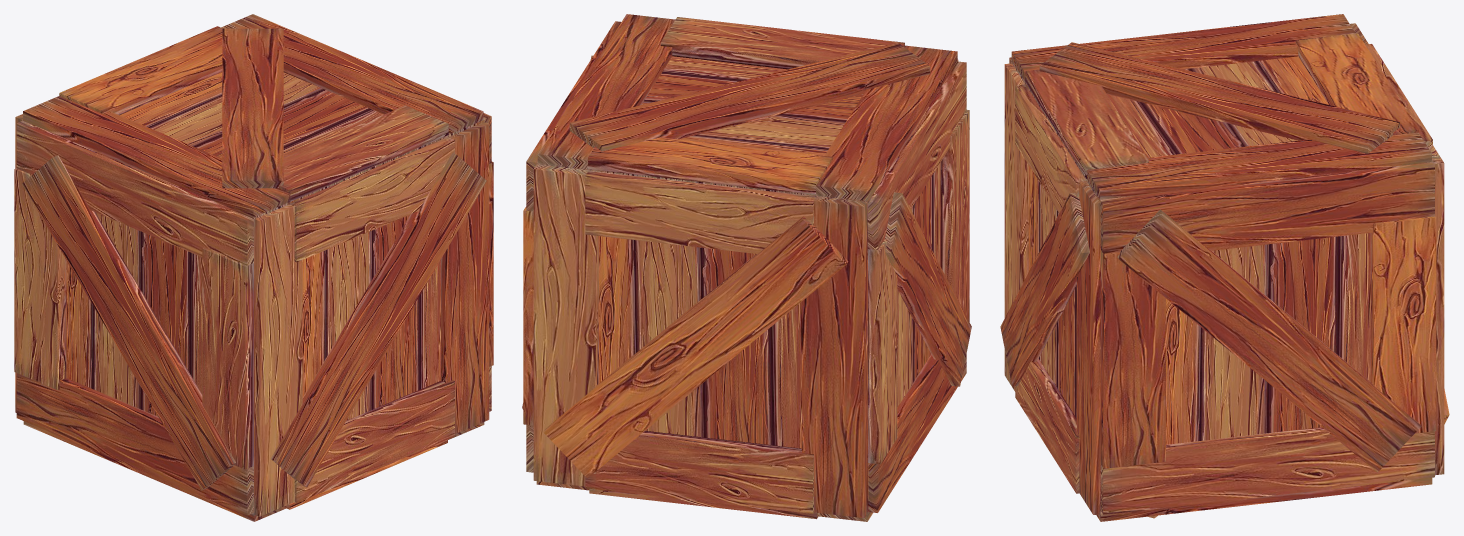
3 views of the same model, side by side, from view 1: azimuth 30°, elevation 25°; view 2: azimuth 150°, elevation 25°; view 3: azimuth 270°, elevation 25° (orthographic). The views are drawn at different scales.
Parts seen in each view (by area): view 1: box_wood.004; view 2: box_wood.004; view 3: box_wood.004.
Boxes of the visible parts, box(x1,y1,x2,y2) form: box_wood.004: box(14, 14, 493, 521); box_wood.004: box(522, 14, 971, 521); box_wood.004: box(1000, 14, 1449, 521).
Bounding box in the file's own units: 0.6925 × 0.5885 × 0.692.
1 material, 1 textured.
